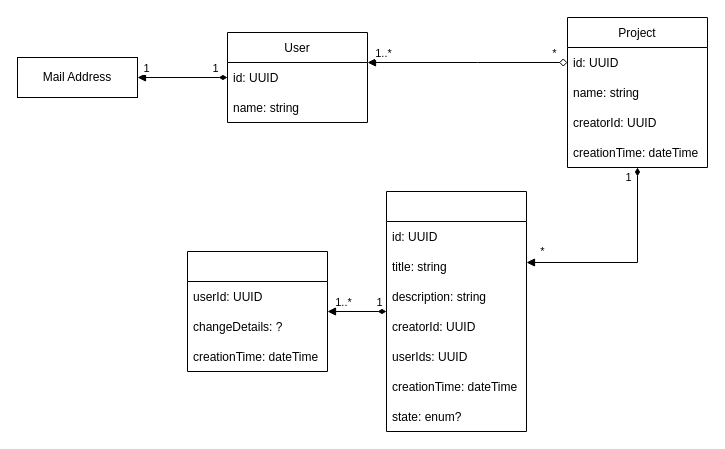
Some shapes in this 725 by 449 pixel diagram are drawn without their labels. The box of each missing label's shape, as (x1, y1, x2, y2) in pixels:
Ticket: (386, 190, 526, 432)
TicketUpdate: (186, 250, 328, 372)
